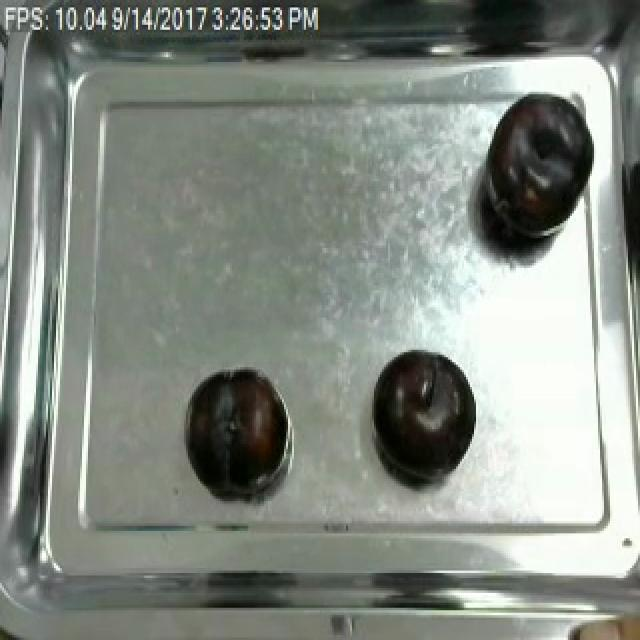Fruit: (476, 84, 600, 253), (370, 345, 474, 476), (182, 367, 286, 489), (558, 598, 640, 640)
